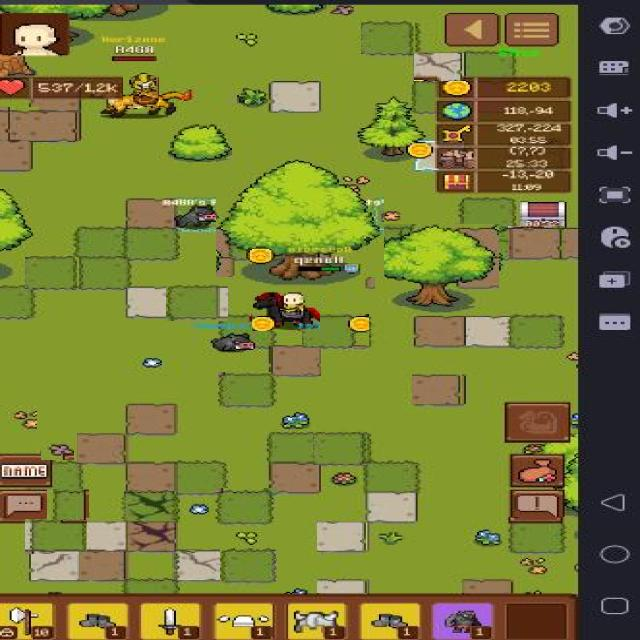earth_square: (411, 314, 470, 350), (508, 226, 564, 261), (271, 462, 321, 493), (412, 373, 462, 404), (126, 462, 176, 493), (126, 520, 176, 551), (271, 345, 321, 376), (126, 404, 176, 434), (77, 433, 126, 463), (29, 112, 77, 142), (126, 198, 176, 226), (79, 551, 126, 580), (0, 107, 39, 141), (0, 138, 31, 172), (462, 579, 513, 593), (560, 226, 580, 259)
grass: (0, 406, 37, 435), (232, 83, 268, 109), (133, 351, 170, 375), (41, 440, 74, 460), (472, 528, 504, 547), (282, 411, 310, 426), (234, 530, 257, 544), (379, 530, 400, 544)
gray_square: (365, 491, 414, 522), (317, 520, 366, 551), (464, 315, 511, 346), (126, 288, 176, 317), (271, 82, 319, 112), (29, 551, 77, 580), (414, 52, 462, 81), (176, 550, 222, 580), (79, 522, 126, 550), (317, 579, 367, 593)
green_square: (0, 1, 162, 21), (116, 222, 186, 264), (503, 517, 570, 555), (70, 253, 135, 292), (173, 457, 234, 497), (166, 282, 228, 321), (356, 459, 422, 495), (215, 488, 277, 526), (264, 432, 326, 469), (302, 314, 369, 348), (75, 223, 133, 261), (26, 519, 88, 554), (218, 372, 276, 407), (220, 548, 276, 582), (462, 49, 522, 80), (362, 20, 416, 54), (314, 432, 368, 465), (25, 257, 79, 289), (510, 316, 562, 347), (266, 0, 352, 18), (124, 491, 176, 520), (119, 575, 184, 596), (47, 489, 89, 520), (0, 286, 33, 318), (49, 461, 86, 488)
mouse: (97, 86, 188, 117)
player: (252, 288, 320, 331), (123, 68, 159, 106)
tree: (216, 159, 384, 277), (375, 225, 499, 306), (354, 95, 425, 157), (0, 182, 33, 263), (168, 124, 232, 161)
